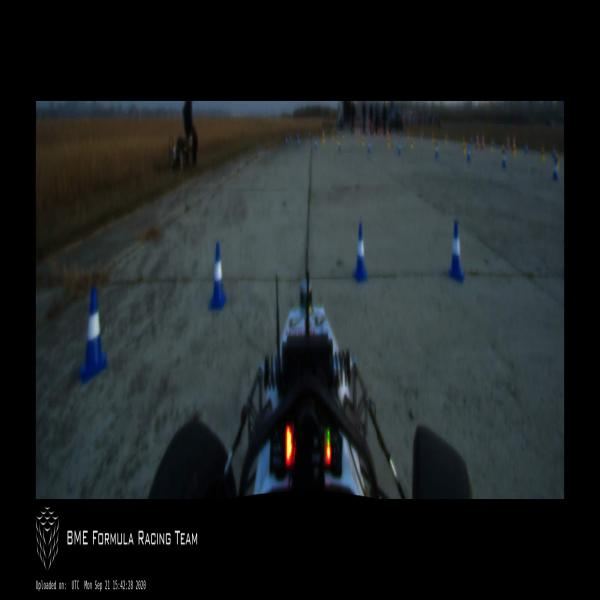blue_cone: (80, 290, 106, 382), (210, 242, 226, 309), (448, 221, 464, 281), (353, 222, 367, 283), (552, 158, 558, 179), (502, 150, 506, 168), (467, 145, 471, 161), (398, 140, 401, 154), (338, 140, 341, 153), (436, 143, 438, 158), (368, 138, 370, 153)
yellow_cone: (541, 146, 545, 163), (556, 153, 559, 171), (501, 142, 504, 158), (410, 135, 413, 150), (463, 142, 466, 157), (512, 141, 515, 155), (322, 133, 325, 145), (362, 134, 364, 147), (388, 134, 390, 147)
